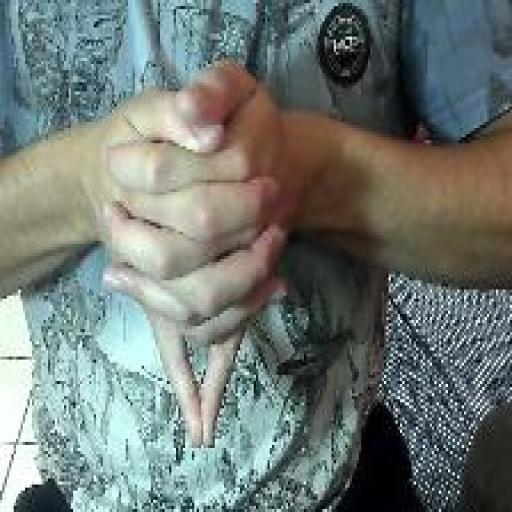Tatsu -dragon-: (98, 52, 297, 457)
